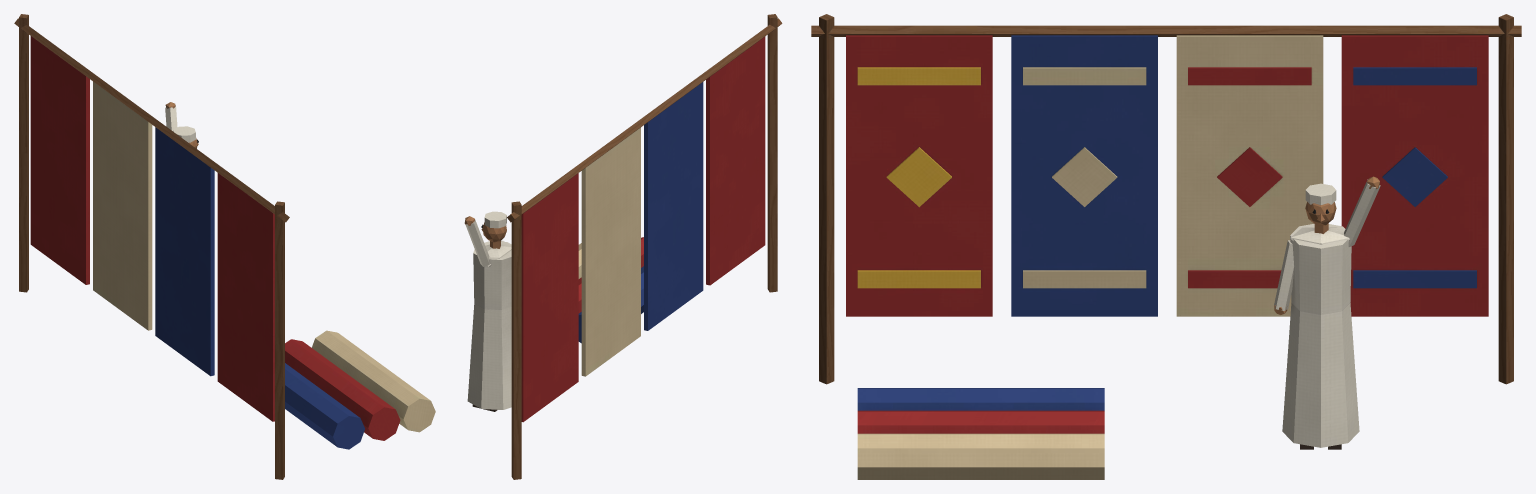
The model's file is mattforsaljare_tex.glb.
The picture shows the model from 3 angles, left to right: view 1: azimuth 30°, elevation 25°; view 2: azimuth 150°, elevation 25°; view 3: azimuth 270°, elevation 25°; orthographic projection. The views are drawn at different scales.
Visible parts, largest first — view 1: mattforsaljare; view 2: mattforsaljare; view 3: mattforsaljare.
Part boxes in pixels (bbox=[...]): mattforsaljare: bbox=[14, 14, 435, 479]; mattforsaljare: bbox=[464, 14, 782, 479]; mattforsaljare: bbox=[811, 14, 1521, 479].
Bounding box in the file's own units: 1.71 × 2.6 × 4.6.
Materials: 9 (8 with a texture image).
